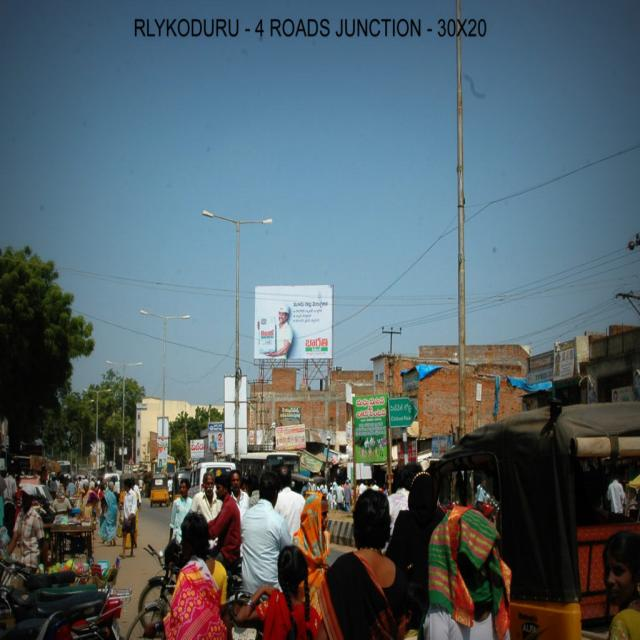Werbetafel frei: (252, 284, 331, 356)
